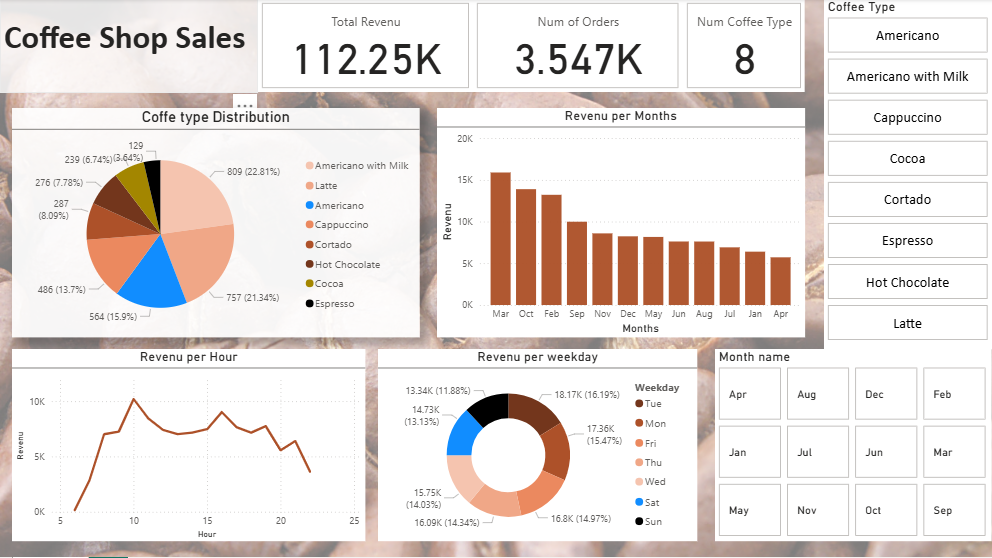

The page's visual inventory and layout, read from the dashboard file:
{"tool":"powerbi","page":{"name":"Page 1","canvas":[1280,720],"ordinal":0},"visuals":[{"type":"textbox","box":[0,0,332.6,120.9],"z":0},{"type":"pieChart","title":"Coffe type Distribution","fields":{"Y":["CountNonNull(Coffe_sales.coffee_name)"],"Category":["Coffe_sales.coffee_name"]},"box":[15.6,140.3,525.8,296.2],"z":1000},{"type":"clusteredColumnChart","title":"Revenu per Months","fields":{"Category":["Coffe_sales.Month_name"],"Y":["Sum(Coffe_sales.money)"]},"box":[564.1,140.3,474.8,296.2],"z":2000},{"type":"cardVisual","fields":{"Data":["Sum(Coffe_sales.money)"]},"box":[333.1,0,277.8,120.5],"z":3000},{"type":"cardVisual","fields":{"Data":["Count(Coffe_sales.coffee_name)"]},"box":[881.6,0,157.3,120.5],"z":4000},{"type":"cardVisual","fields":{"Data":["CountNonNull(Coffe_sales.coffee_name)"]},"box":[610.9,0,270.7,120.5],"z":5000},{"type":"advancedSlicerVisual","title":"Coffee Type","fields":{"Values":["Coffe_sales.coffee_name"]},"box":[1063,0,216.9,452.1],"z":6000},{"type":"advancedSlicerVisual","title":"Month name","fields":{"Values":["Coffe_sales.Month_name"]},"box":[922.7,452.1,357.2,248],"z":7000},{"type":"donutChart","title":"Revenu per weekday","fields":{"Category":["Coffe_sales.Weekday"],"Y":["Sum(Coffe_sales.money)"]},"box":[487.6,452.1,412.4,248],"z":8000},{"type":"lineChart","title":"Revenu per Hour","fields":{"Category":["Coffe_sales.hour_of_day"],"Y":["Sum(Coffe_sales.money)"]},"box":[15.6,452.1,456.4,248],"z":9000}]}

Visuals, with their boxes in screenshot pixels (x1, y1, x2, y2), scaled from the page's 1280x720 canvas onto the 992x558 screenshot:
textbox: (0,0,258,94)
"Coffe type Distribution" pieChart: (12,109,420,338)
"Revenu per Months" clusteredColumnChart: (437,109,805,338)
cardVisual - Sum(Coffe_sales.money): (258,0,473,93)
cardVisual - Count(Coffe_sales.coffee_name): (683,0,805,93)
cardVisual - CountNonNull(Coffe_sales.coffee_name): (473,0,683,93)
"Coffee Type" advancedSlicerVisual: (824,0,991,350)
"Month name" advancedSlicerVisual: (715,350,991,543)
"Revenu per weekday" donutChart: (378,350,698,543)
"Revenu per Hour" lineChart: (12,350,366,543)
